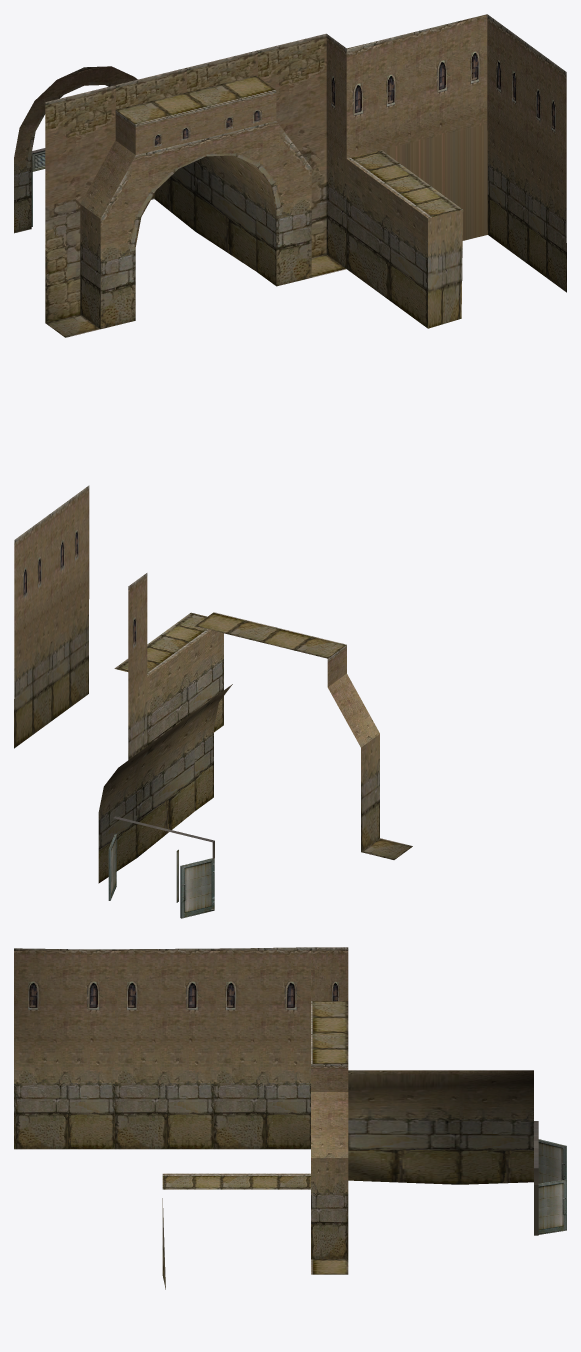
File: M2Zone1_GateIn.glb
3 renders of one model, top to bottom at view 1: azimuth 30°, elevation 25°; view 2: azimuth 150°, elevation 25°; view 3: azimuth 270°, elevation 25°, orthographic. The views are drawn at different scales.
Visible parts, largest first — view 1: M2ZONE1_GATEIN; view 2: M2ZONE1_GATEIN; view 3: M2ZONE1_GATEIN.
Boxes of the visible parts, x1,y1,x2,y2 form: M2ZONE1_GATEIN: (14, 14, 566, 337); M2ZONE1_GATEIN: (14, 485, 412, 918); M2ZONE1_GATEIN: (14, 947, 566, 1289).
Bounding box in the file's own units: 24.02 × 12.25 × 29.78.
Materials: 6 (6 with a texture image).
